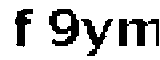9: (46, 6, 83, 48)
f: (9, 4, 37, 49)
m: (116, 15, 160, 52)
y: (80, 14, 113, 60)
